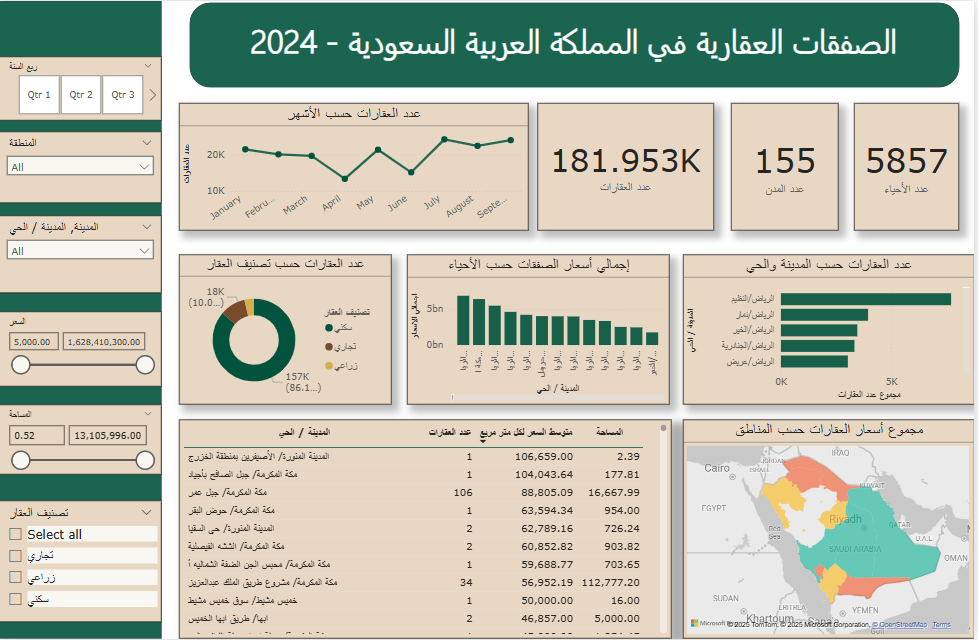

The dashboard page shown, as its layout file describes it:
{"tool":"powerbi","page":{"name":"الصفقات العقارية 2024","canvas":[1300,850],"ordinal":0},"visuals":[{"type":"shape","box":[0,0,216.7,850],"z":0},{"type":"shape","box":[253.3,1.7,1026.7,113.3],"z":1000},{"type":"card","fields":{"Values":["Count(ALL-Transactions sale for real estate-2024.المدينة)"]},"box":[976.7,136.7,143.3,170],"z":2000},{"type":"lineChart","title":"عدد العقارات حسب الأشهر ","fields":{"Category":["ALL-Transactions sale for real estate-2024.تاريخ الصفقة ميلادي.Variation.Date Hierarchy.Month"],"Y":["Sum(ALL-Transactions sale for real estate-2024.عدد العقارات)"]},"box":[240,136,466,170],"z":3000},{"type":"card","fields":{"Values":["Count(ALL-Transactions sale for real estate-2024.المدينة / الحي)"]},"box":[1140,136.7,140,170],"z":4000},{"type":"card","fields":{"Values":["Measures&Claculations.مجموع عدد العقارات"]},"box":[718.3,136.7,235,170],"z":5000},{"type":"filledMap","title":"مجموع أسعار العقارات حسب المناطق","fields":{"Category":["ALL-Transactions sale for real estate-2024.المنطقة"]},"box":[911.7,558.3,388.3,291.7],"z":6000},{"type":"columnChart","title":"إجمالي أسعار الصفقات حسب الأحياء","fields":{"Category":["ALL-Transactions sale for real estate-2024.المدينة / الحي"],"Y":["Measures&Claculations.اجمالي المبيعات"]},"box":[543.3,338.3,350,200],"z":7000},{"type":"slicer","fields":{"Values":["ALL-Transactions sale for real estate-2024.المنطقة"]},"box":[0,173.3,216.7,95],"z":8000},{"type":"slicer","fields":{"Values":["ALL-Transactions sale for real estate-2024.المدينة","ALL-Transactions sale for real estate-2024.المدينة / الحي"]},"box":[0,286.7,216.7,103.3],"z":9000},{"type":"slicer","fields":{"Values":["ALL-Transactions sale for real estate-2024.تصنيف العقار"]},"box":[0,666.7,216.7,161.7],"z":10000},{"type":"slicer","fields":{"Values":["ALL-Transactions sale for real estate-2024.تاريخ الصفقة ميلادي.Variation.Date Hierarchy.Quarter"]},"box":[0,73.3,216.7,85],"z":11000},{"type":"clusteredBarChart","title":"عدد العقارات حسب المدينة والحي","fields":{"Category":["ALL-Transactions sale for real estate-2024.المدينة / الحي"],"Y":["Sum(ALL-Transactions sale for real estate-2024.عدد العقارات)"]},"box":[911.7,338.3,388.3,200],"z":12000},{"type":"donutChart","title":"عدد العقارات حسب تصنيف العقار","fields":{"Y":["Measures&Claculations.مجموع عدد العقارات"],"Category":["ALL-Transactions sale for real estate-2024.تصنيف العقار"]},"box":[240,338.3,283.3,200],"z":13000},{"type":"textbox","box":[286.7,18.3,960,80],"z":14000},{"type":"tableEx","fields":{"Values":["ALL-Transactions sale for real estate-2024.المدينة / الحي","Sum(ALL-Transactions sale for real estate-2024.عدد العقارات)","Measures&Claculations.متوسط السعر لكل متر مربع","Sum(ALL-Transactions sale for real estate-2024.المساحة)"]},"box":[240,558.3,656.7,291.7],"z":15000},{"type":"slicer","fields":{"Values":["ALL-Transactions sale for real estate-2024.السعر"]},"box":[0,413.3,216.7,100],"z":16000},{"type":"slicer","fields":{"Values":["ALL-Transactions sale for real estate-2024.المساحة"]},"box":[0,538.3,216.7,93.3],"z":17000}]}

Visuals, with their boxes on the page's 1300x850 design canvas (x1, y1, x2, y2). These are canvas units, not pixel positions in the 978x640 screenshot, which may show the page scaled, cropped or inside an application window:
shape: [0,0,217,850]
shape: [253,2,1280,115]
card - Count(ALL-Transactions sale for real estate-2024.المدينة): [977,137,1120,307]
"عدد العقارات حسب الأشهر " lineChart: [240,136,706,306]
card - Count(ALL-Transactions sale for real estate-2024.المدينة / الحي): [1140,137,1280,307]
card - Measures&Claculations.مجموع عدد العقارات: [718,137,953,307]
"مجموع أسعار العقارات حسب المناطق" filledMap: [912,558,1300,850]
"إجمالي أسعار الصفقات حسب الأحياء" columnChart: [543,338,893,538]
slicer - ALL-Transactions sale for real estate-2024.المنطقة: [0,173,217,268]
slicer - ALL-Transactions sale for real estate-2024.المدينة x ALL-Transactions sale for real estate-2024.المدينة / الحي: [0,287,217,390]
slicer - ALL-Transactions sale for real estate-2024.تصنيف العقار: [0,667,217,828]
slicer - ALL-Transactions sale for real estate-2024.تاريخ الصفقة ميلادي.Variation.Date Hierarchy.Quarter: [0,73,217,158]
"عدد العقارات حسب المدينة والحي" clusteredBarChart: [912,338,1300,538]
"عدد العقارات حسب تصنيف العقار" donutChart: [240,338,523,538]
textbox: [287,18,1247,98]
tableEx - ALL-Transactions sale for real estate-2024.المدينة / الحي x Sum(ALL-Transactions sale for real estate-2024.عدد العقارات): [240,558,897,850]
slicer - ALL-Transactions sale for real estate-2024.السعر: [0,413,217,513]
slicer - ALL-Transactions sale for real estate-2024.المساحة: [0,538,217,632]
